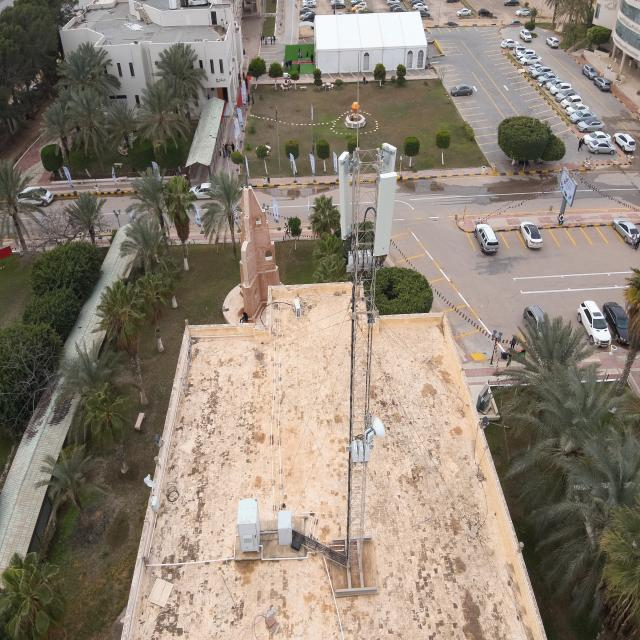antenna: (372, 171, 399, 260), (378, 140, 398, 225), (338, 151, 352, 240)
lighnig-rad: (356, 50, 360, 150)
microware-dish: (362, 415, 388, 444)
power-box: (351, 438, 372, 464)
radio-unit: (344, 246, 381, 272)
